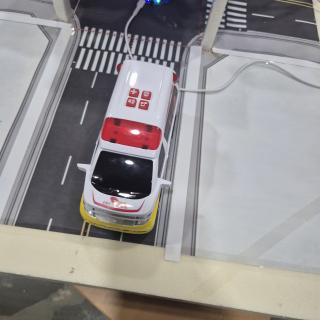Ambulance: (77, 60, 179, 234)
